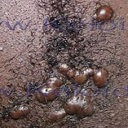Keloids: (63, 62, 107, 87), (51, 95, 93, 119), (95, 6, 114, 23)
